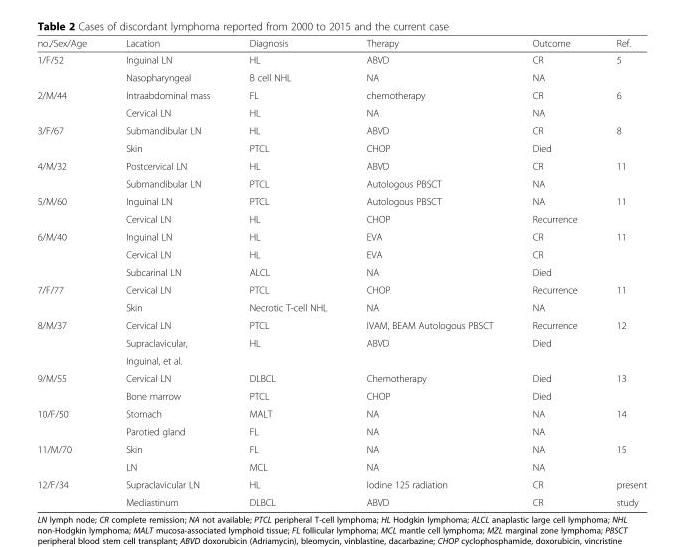table: (36, 37, 646, 507)
table column: (346, 37, 512, 507), (105, 37, 229, 507), (229, 37, 346, 507), (512, 37, 596, 507), (36, 37, 105, 507), (596, 37, 646, 507)
table column header: (36, 37, 646, 51)
table row: (36, 85, 646, 103), (36, 103, 646, 121), (36, 121, 646, 139), (36, 156, 646, 174), (36, 174, 646, 192), (36, 209, 646, 227), (36, 227, 646, 245), (36, 262, 646, 280), (36, 280, 646, 298), (36, 298, 646, 316), (36, 333, 646, 351), (36, 351, 646, 369), (36, 386, 646, 404), (36, 404, 646, 422), (36, 439, 646, 457), (36, 457, 646, 475), (36, 475, 646, 493), (36, 51, 646, 68), (36, 68, 646, 85), (36, 139, 646, 156), (36, 192, 646, 209), (36, 245, 646, 262), (36, 316, 646, 333), (36, 369, 646, 386), (36, 422, 646, 439), (36, 37, 646, 51), (36, 493, 646, 507)
table spanning cell: (36, 227, 105, 280), (36, 316, 105, 369), (36, 85, 105, 121), (36, 156, 105, 192), (36, 280, 105, 316), (36, 439, 105, 475), (36, 121, 105, 156), (36, 192, 105, 227), (36, 369, 105, 404), (36, 404, 105, 439), (36, 51, 105, 85), (36, 475, 105, 507)
